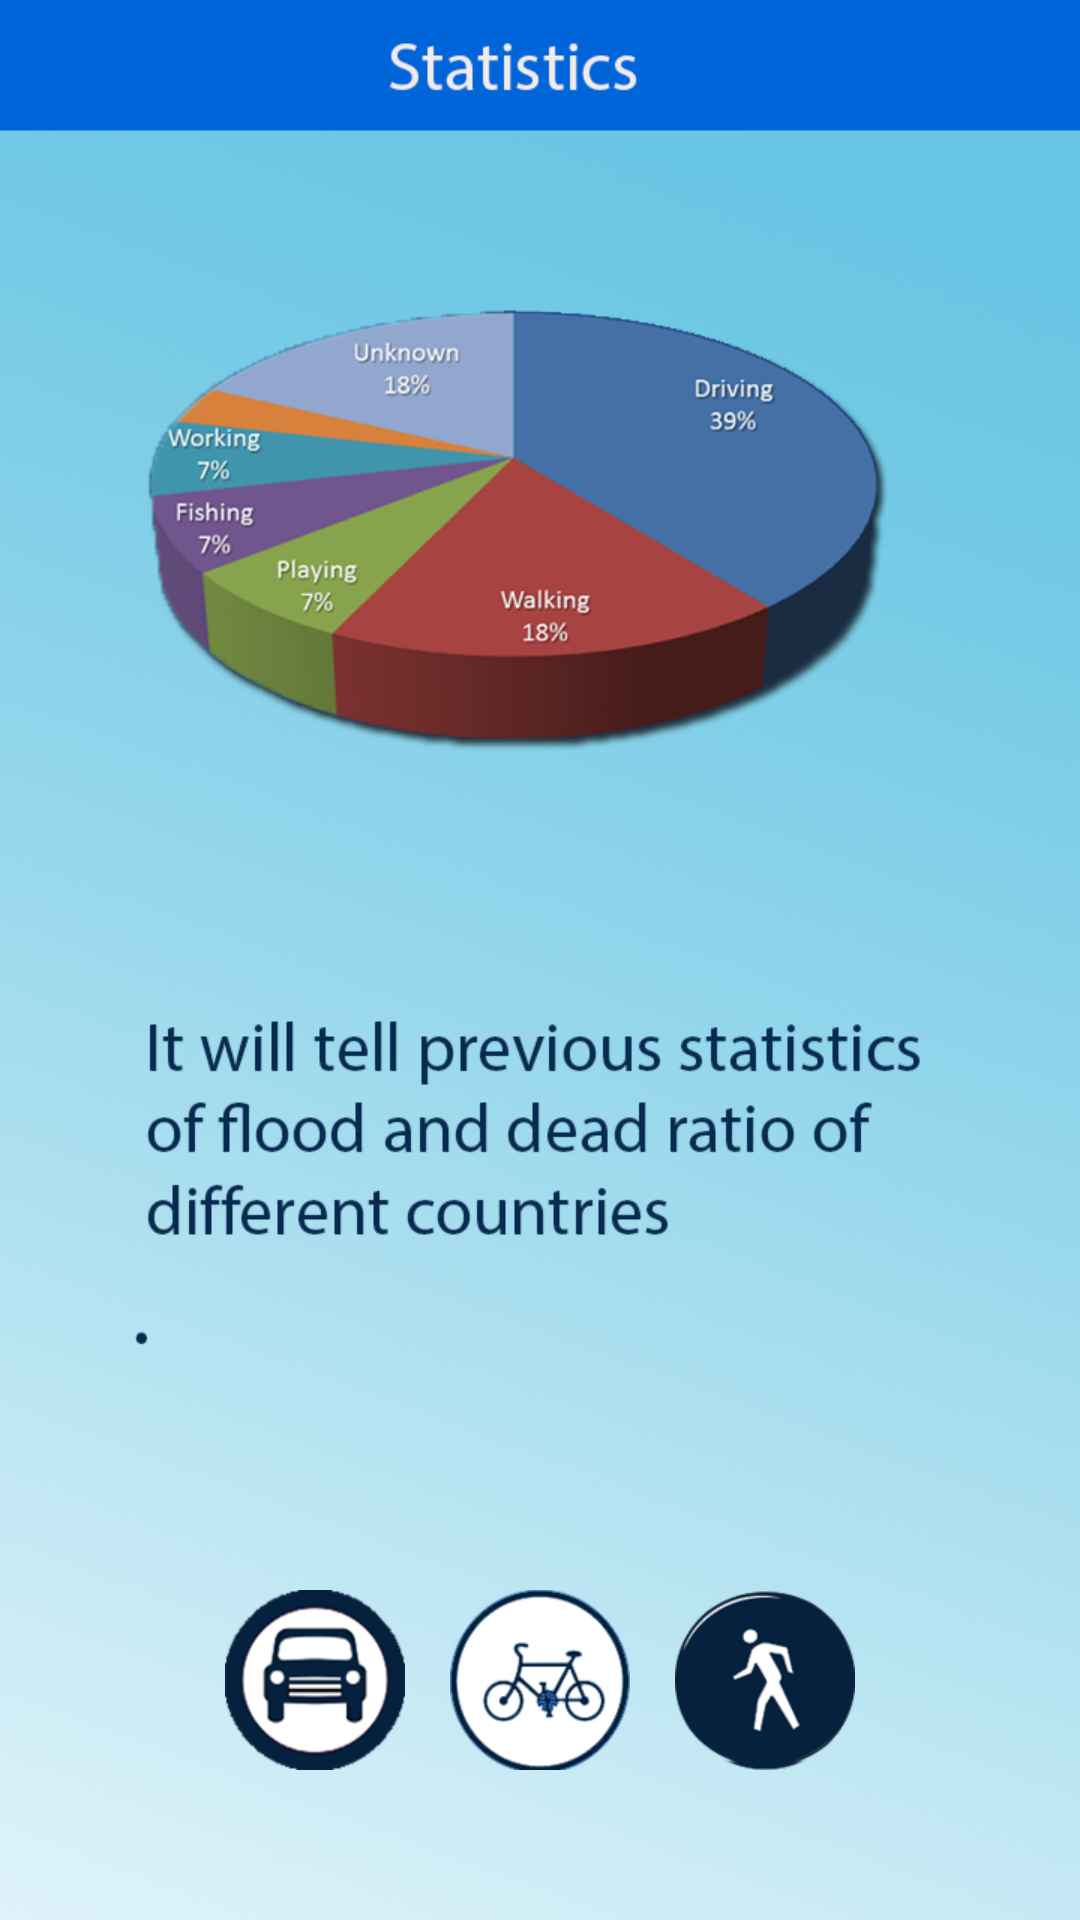

Named icons in this screenshot (1080 × 1920) and their centers, (x=x, y=y):
car: (x=315, y=1680)
cycle: (x=540, y=1680)
walk: (x=765, y=1680)
